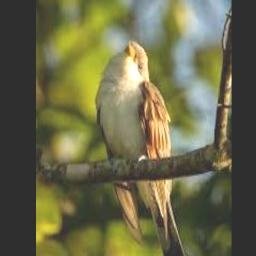Cuckoo: (96, 41, 194, 256)
